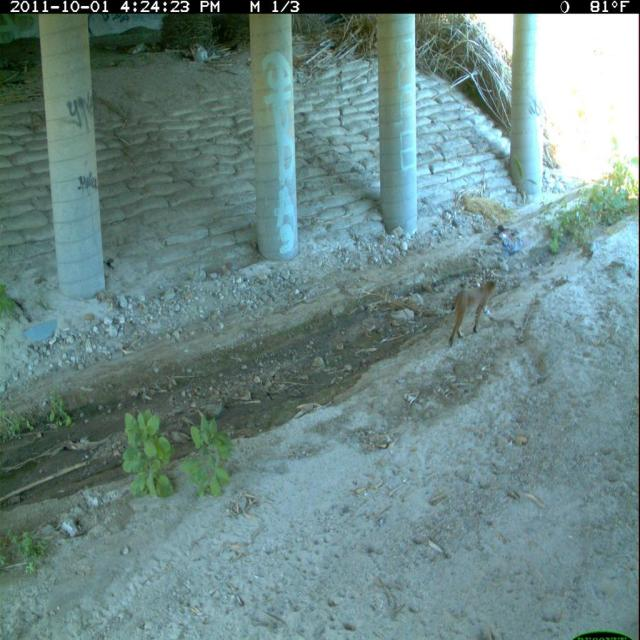bobcat: (446, 276, 504, 352)
